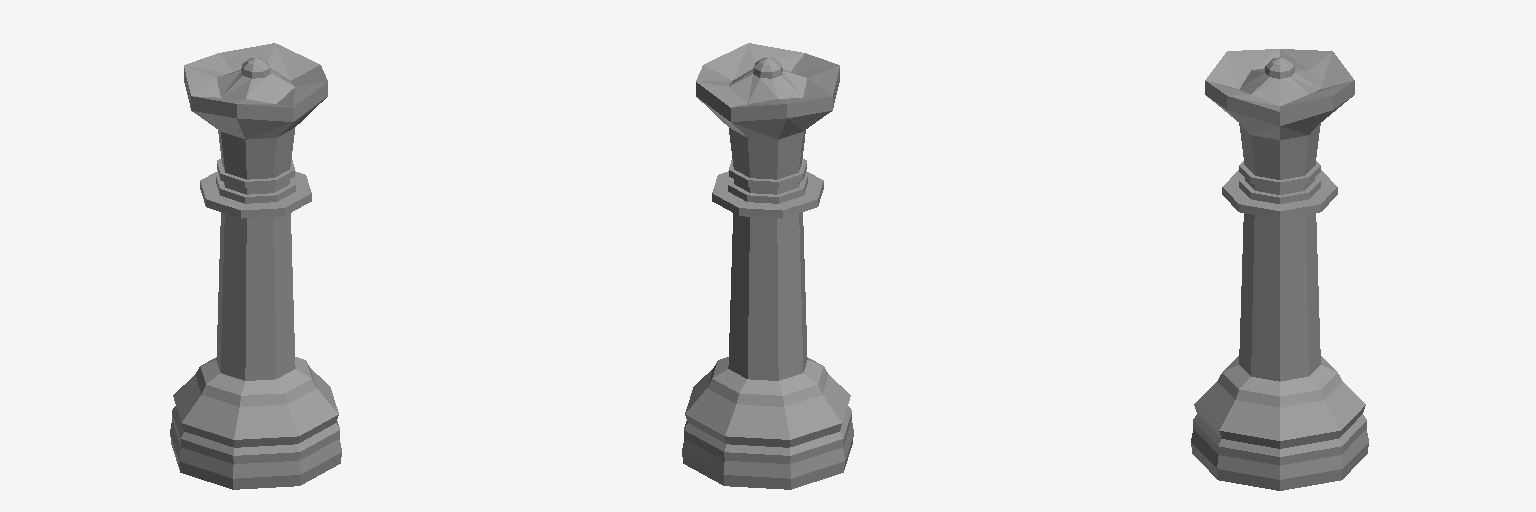
Rendered from Queen.obj.
The picture shows the model from 3 angles: view 1: azimuth 30°, elevation 25°; view 2: azimuth 150°, elevation 25°; view 3: azimuth 270°, elevation 25°; orthographic projection.
Visible parts, largest first — view 1: Black_Queen_Cylinder.012; view 2: Black_Queen_Cylinder.012; view 3: Black_Queen_Cylinder.012.
Boxes of the visible parts, <box> form: Black_Queen_Cylinder.012: <box>170,43,341,489</box>; Black_Queen_Cylinder.012: <box>682,43,853,489</box>; Black_Queen_Cylinder.012: <box>1191,49,1368,490</box>.
Size of the model in its own units: 4.68 by 11.47 by 4.68.